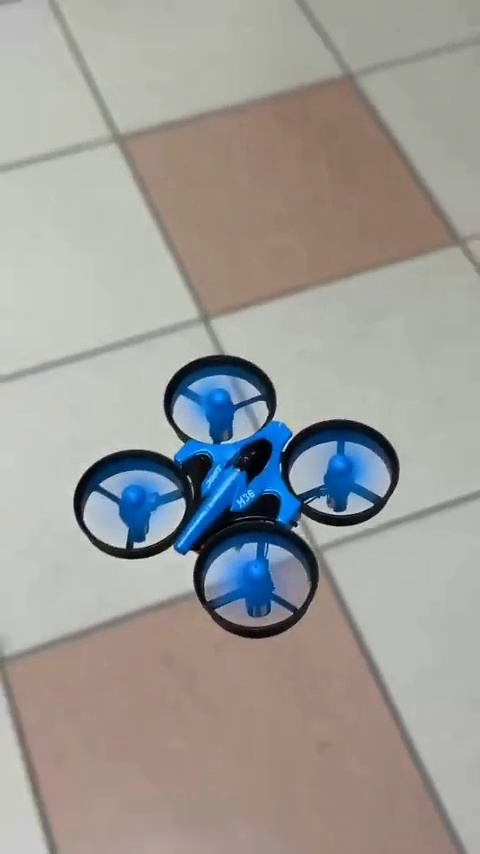drone: (80, 354, 400, 629)
